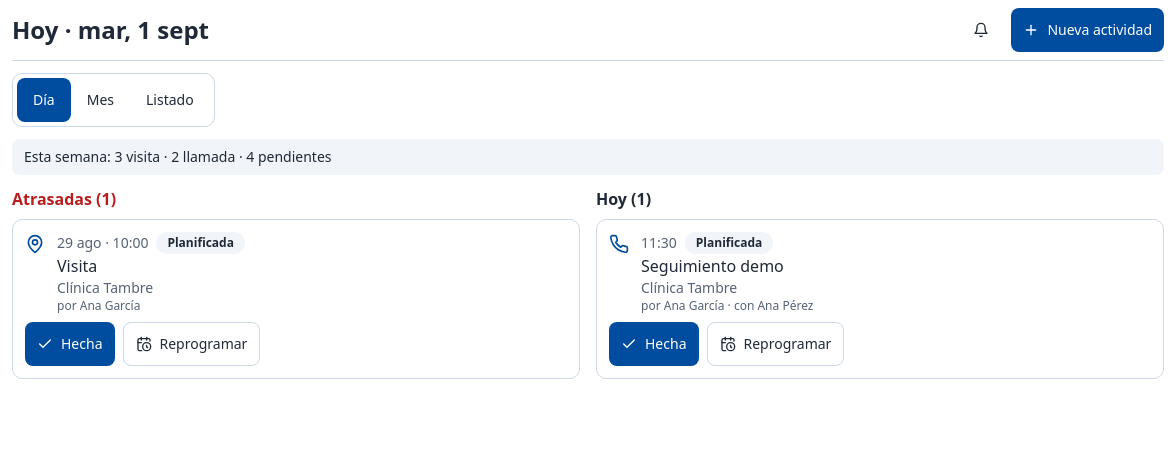
Test: Día ↔ Mes switcher › switching to Mes requests exactly the current month once
Check: the element "Atrasadas (1)" is shown, box [12, 187, 580, 379]
Click the radio button labelled "Mes".
click(100, 100)  # box [87, 90, 114, 109]
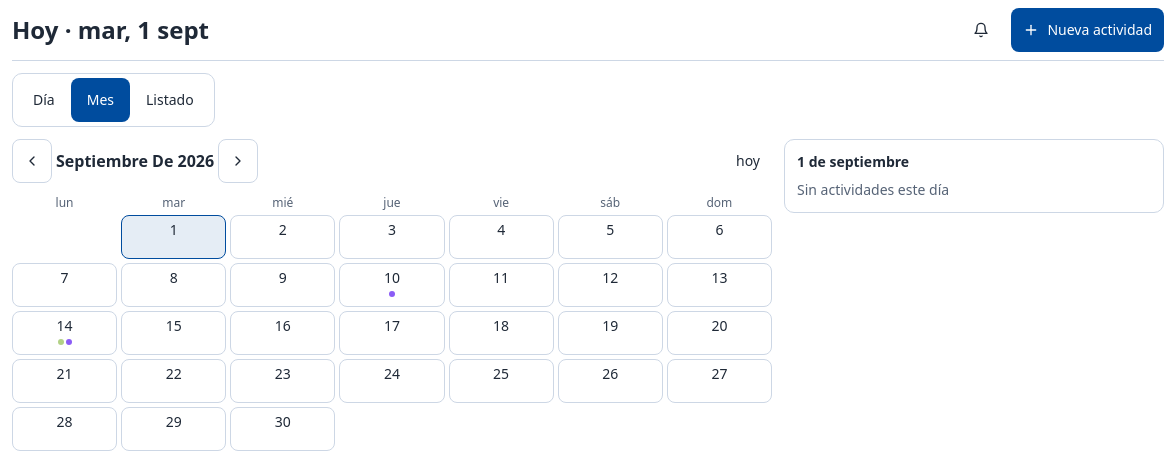
Check: the heading "Atrasadas (1)" is gone
